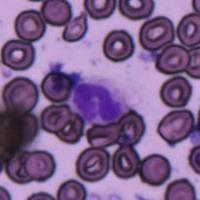N: (69, 76, 129, 125)
